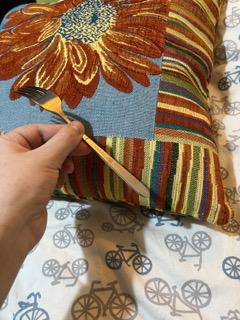fork: (12, 82, 153, 201)
